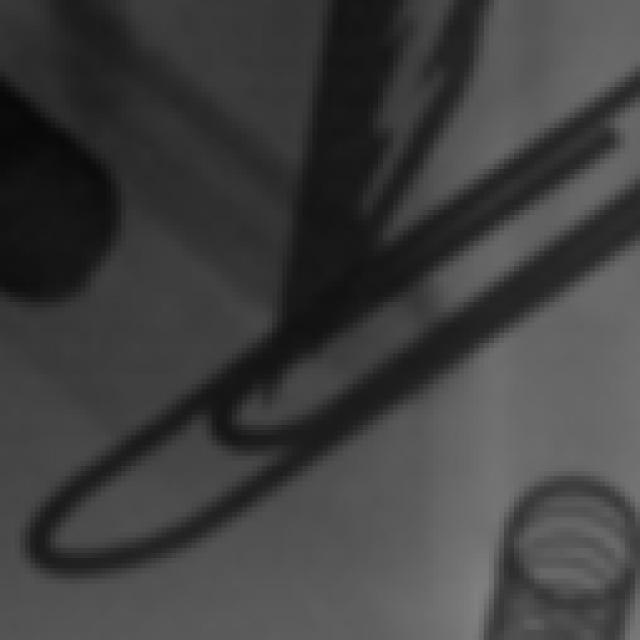GUN: (137, 1, 515, 416)
